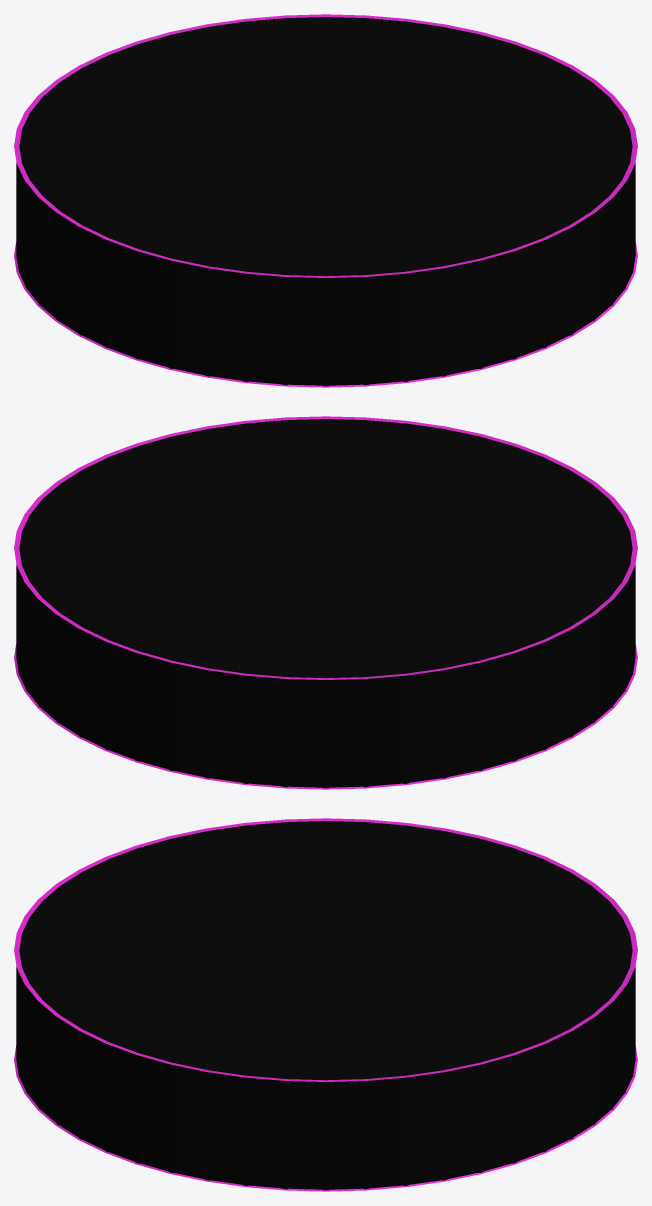
File: Cyclinder.fbx
3 views of the same model, one above another, from view 1: azimuth 30°, elevation 25°; view 2: azimuth 150°, elevation 25°; view 3: azimuth 270°, elevation 25° (orthographic).
Parts seen in each view (by area): view 1: Cylinder, Cylinder.001; view 2: Cylinder, Cylinder.001; view 3: Cylinder, Cylinder.001.
Boxes of the visible parts, x1,y1,x2,y2 form: Cylinder: (16,17,635,386); Cylinder.001: (14,14,637,387); Cylinder: (16,419,635,788); Cylinder.001: (14,416,637,789); Cylinder: (16,821,635,1190); Cylinder.001: (14,818,637,1191).
Size of the model in its own units: 626 by 121 by 626.
